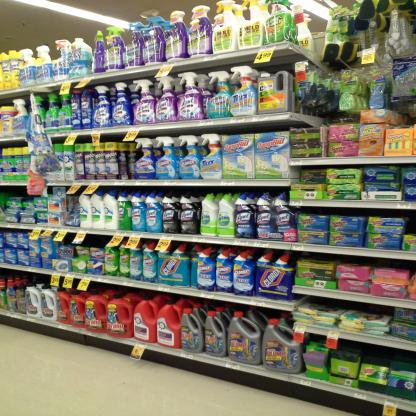Void: (348, 341, 416, 368)
